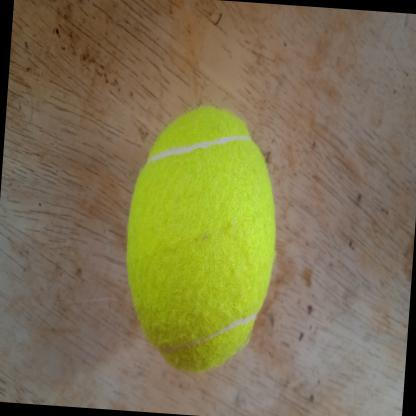Tennis: (115, 95, 288, 382)
